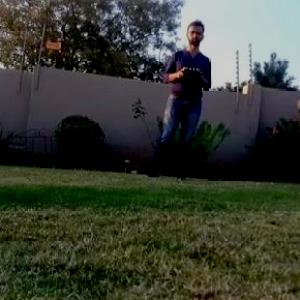follow: (142, 11, 214, 182)
